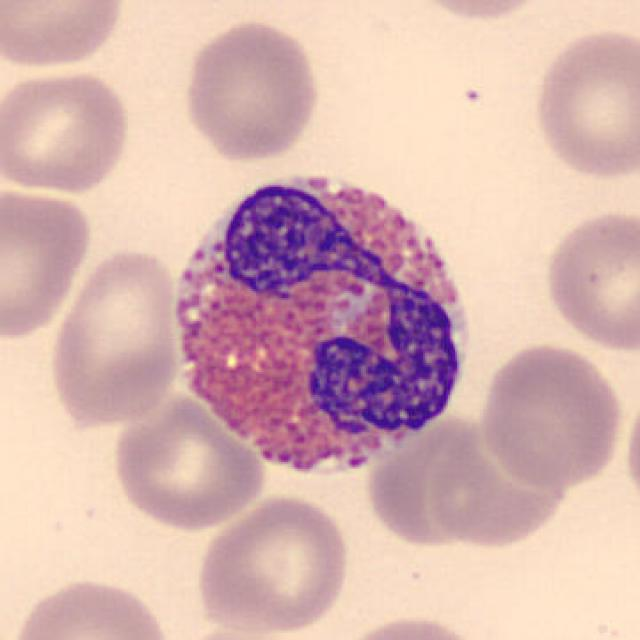Eosinophil: (158, 148, 482, 499)
RBC: (45, 243, 186, 430), (106, 390, 268, 534), (192, 492, 354, 636), (474, 339, 628, 490), (180, 16, 324, 164), (362, 412, 500, 549), (425, 423, 573, 550), (528, 23, 638, 183), (0, 65, 133, 195), (538, 204, 640, 354), (0, 182, 94, 342), (7, 573, 178, 640), (0, 0, 130, 72), (338, 612, 489, 640), (404, 0, 556, 23), (622, 377, 640, 515), (164, 626, 304, 640)
